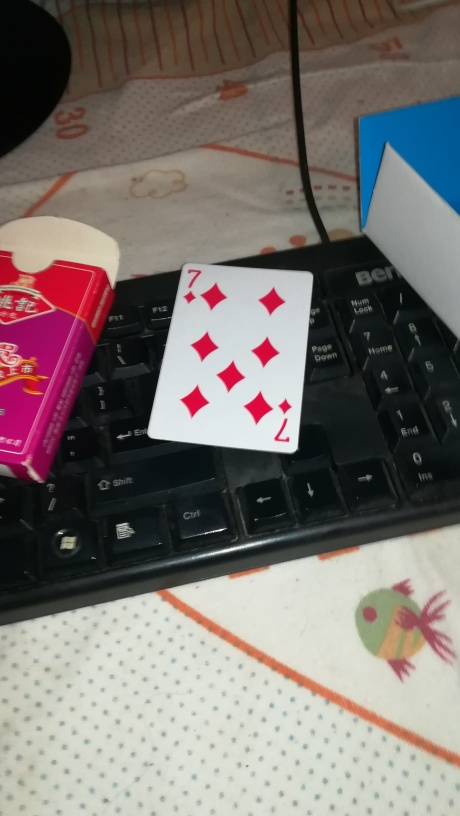fk 7: (147, 262, 320, 462)
